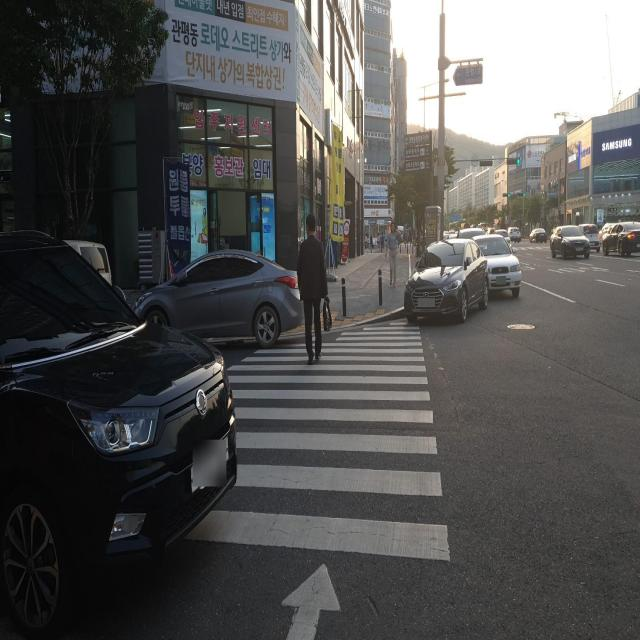횡단보도: (185, 320, 451, 639)
